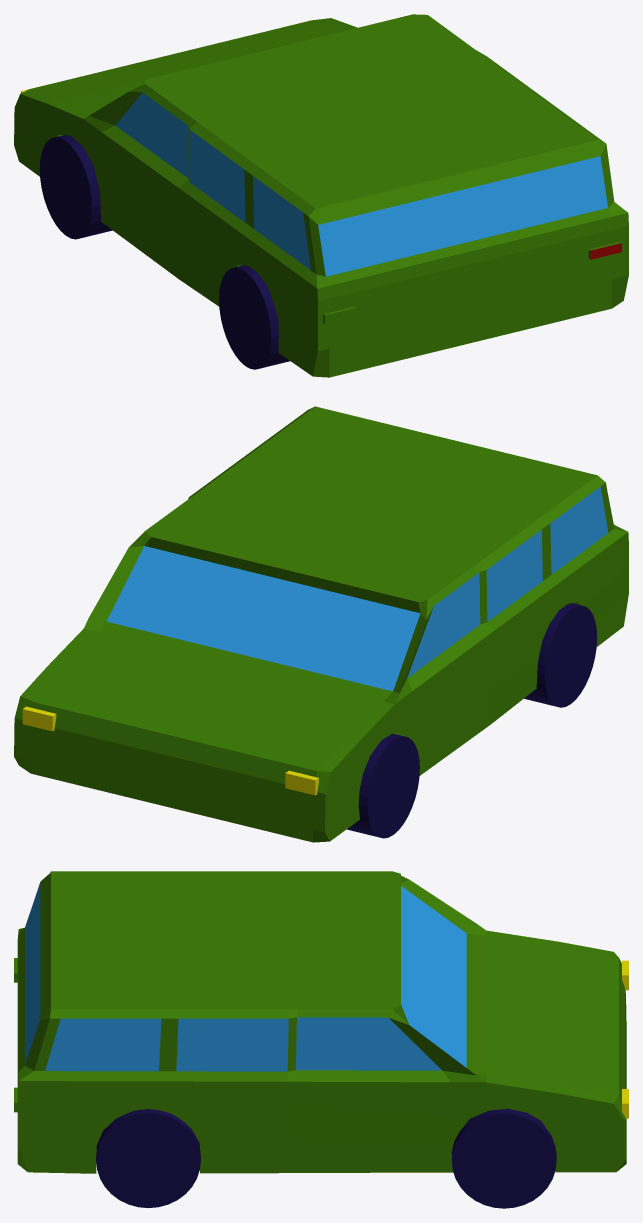
File: CarNPC01.fbx
3 views of the same model, one above another, from view 1: azimuth 30°, elevation 25°; view 2: azimuth 150°, elevation 25°; view 3: azimuth 270°, elevation 25° (orthographic).
Visible parts, largest first — view 1: Cube.000; view 2: Cube.000; view 3: Cube.000.
Part boxes in pixels (x1,y1,x2,y2): Cube.000: [14, 14, 628, 377]; Cube.000: [14, 406, 628, 842]; Cube.000: [14, 871, 628, 1208].
Size of the model in its own units: 226 by 123 by 366.
